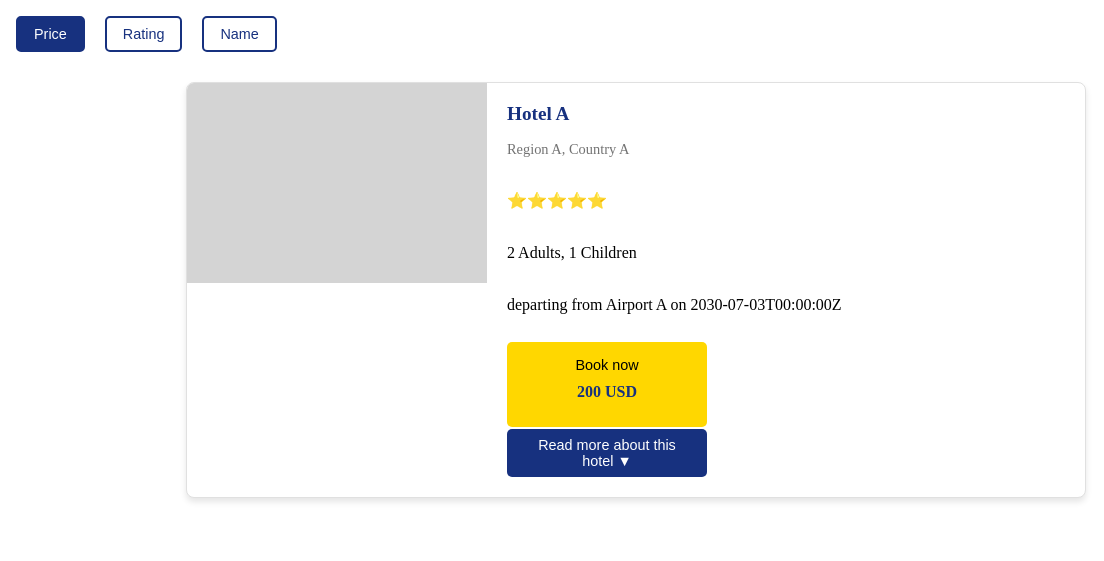
Test: HotelList Component › expands and collapses hotel description
The width and height of the screenshot is (1104, 561).
Expected: the text "Hotel A Overview" is not shown
Click the button "Read more about this hotel ▼": (607, 453) [507, 429, 707, 477]
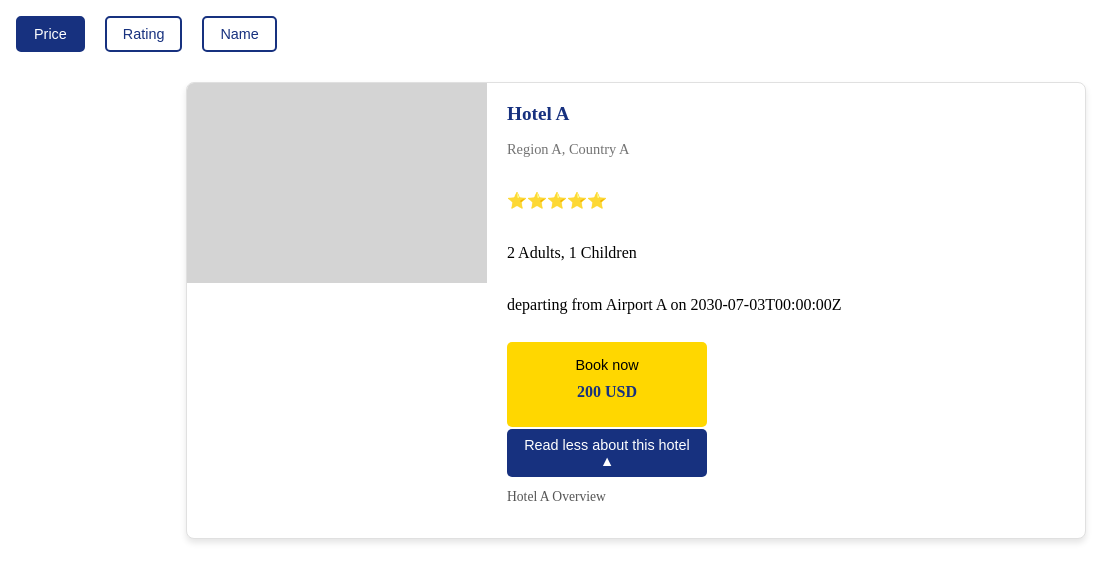
Expected: the text "Hotel A Overview" is shown, [507, 489, 606, 504]
Click the button "Read less about this hotel ▲": (607, 453) [507, 429, 707, 477]
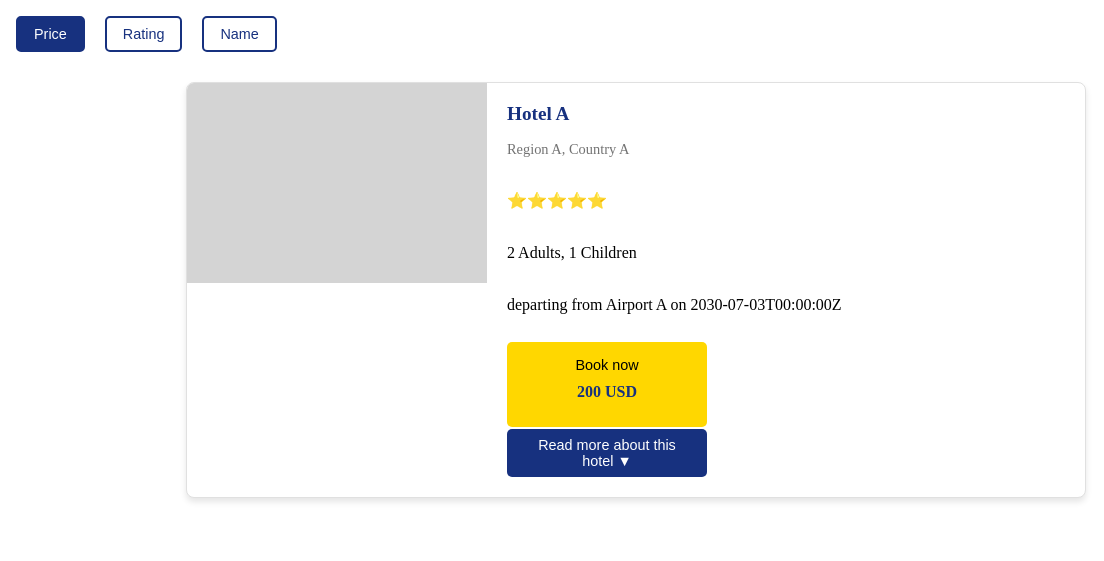
Expected: the text "Hotel A Overview" is gone
